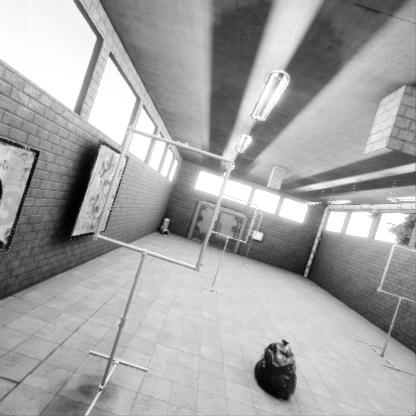gate: (102, 152, 240, 290), (211, 174, 261, 224), (382, 111, 416, 173), (250, 179, 263, 204)
